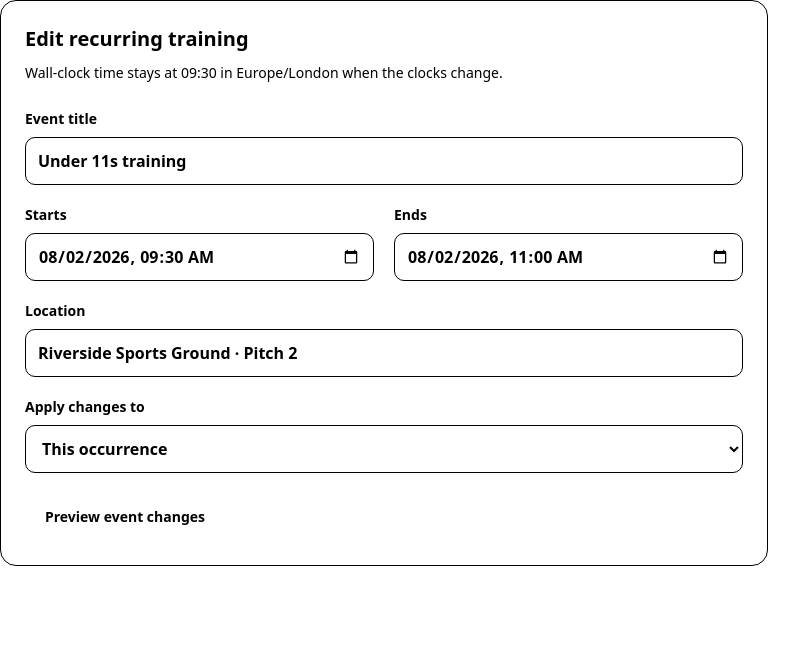
Test: coach core football screens › validates the event editor and confirms demo-only preview
The image size is (785, 671).
Step 1. Clear the field labelled "Event title" → (384, 161), box x1=25 y1=137 x2=743 y2=185
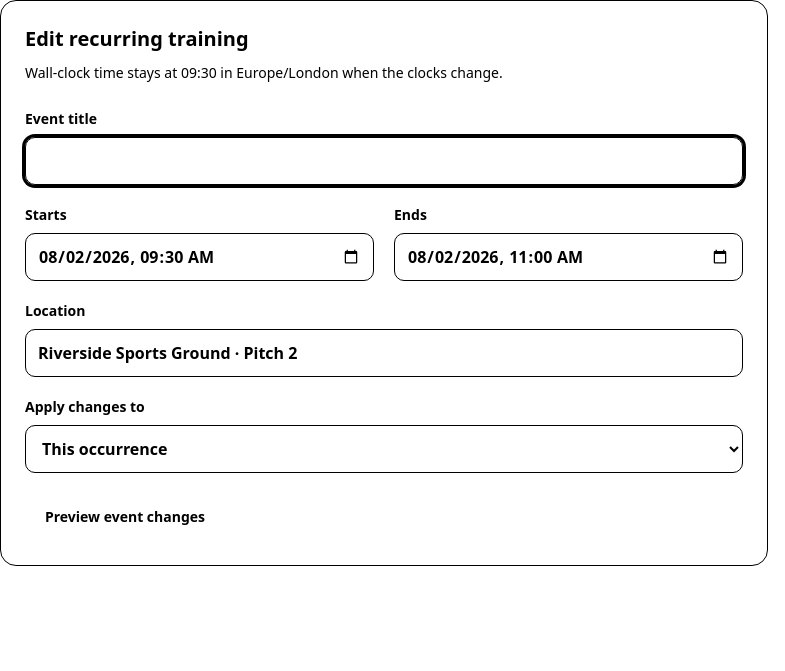
Step 2. Click the button "Preview event changes" → (125, 517), box x1=25 y1=493 x2=225 y2=541
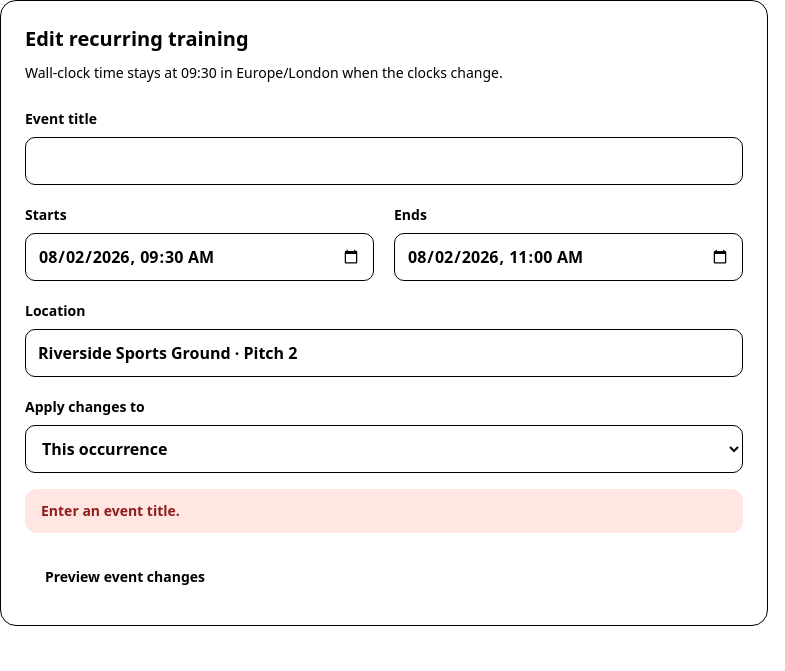
Expected: the message shows "Enter an event title", x1=41 y1=501 x2=180 y2=520
Step 3. Type "Thursday training" into the field labelled "Event title" → (384, 161), box x1=25 y1=137 x2=743 y2=185
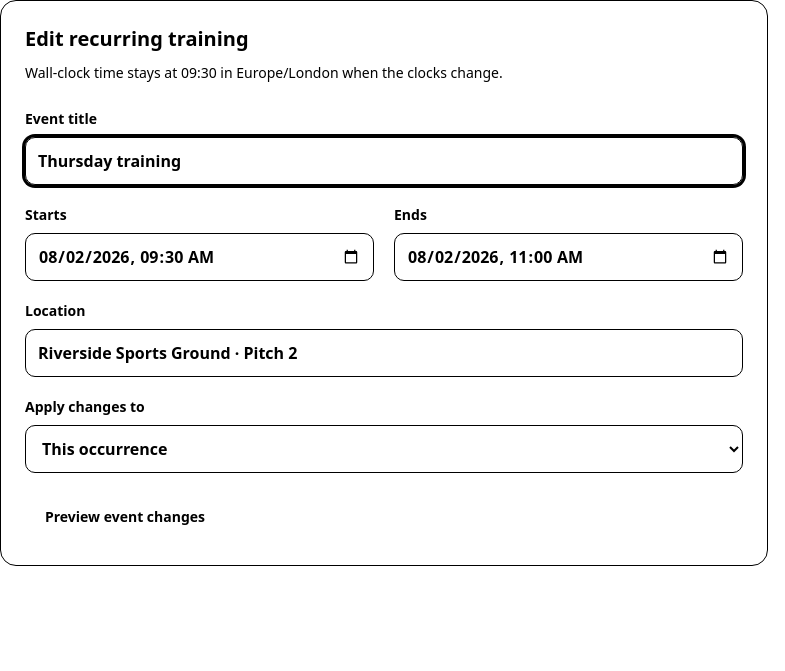
Step 4. Click the button "Preview event changes" → (125, 517), box x1=25 y1=493 x2=225 y2=541
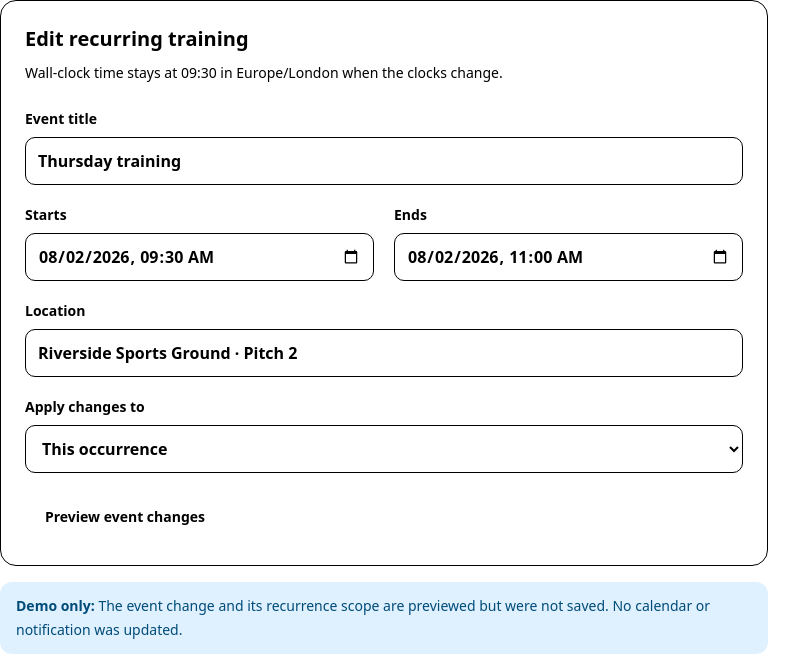
Expected: the message shows "not saved", x1=16 y1=596 x2=710 y2=639
